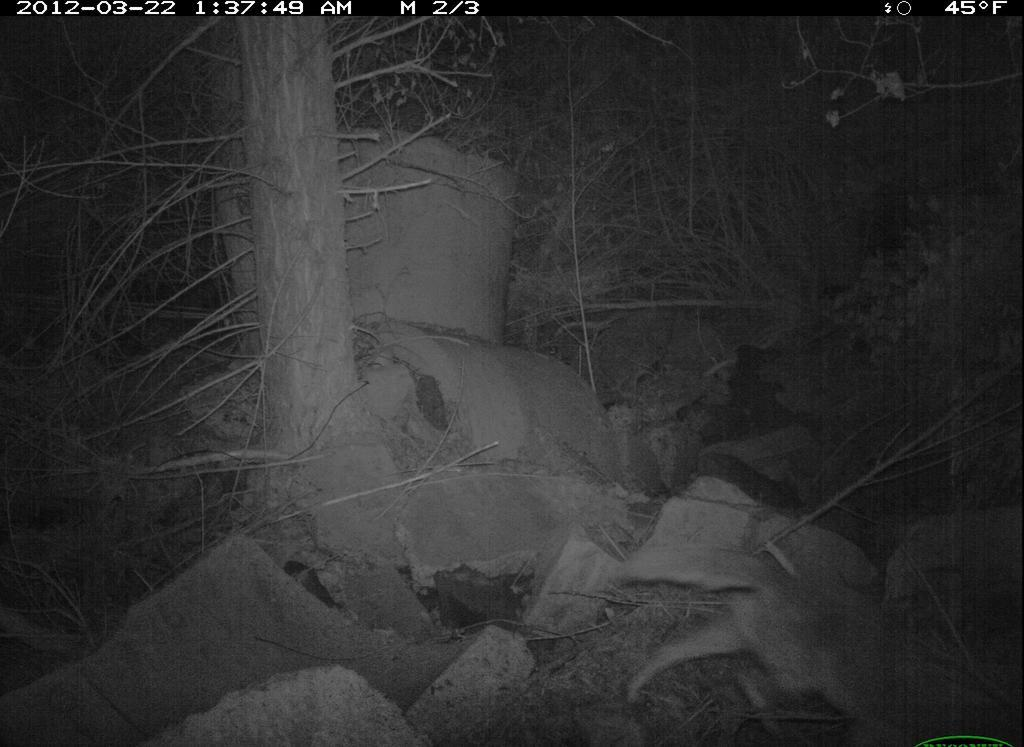coyote: (610, 537, 1022, 747)
